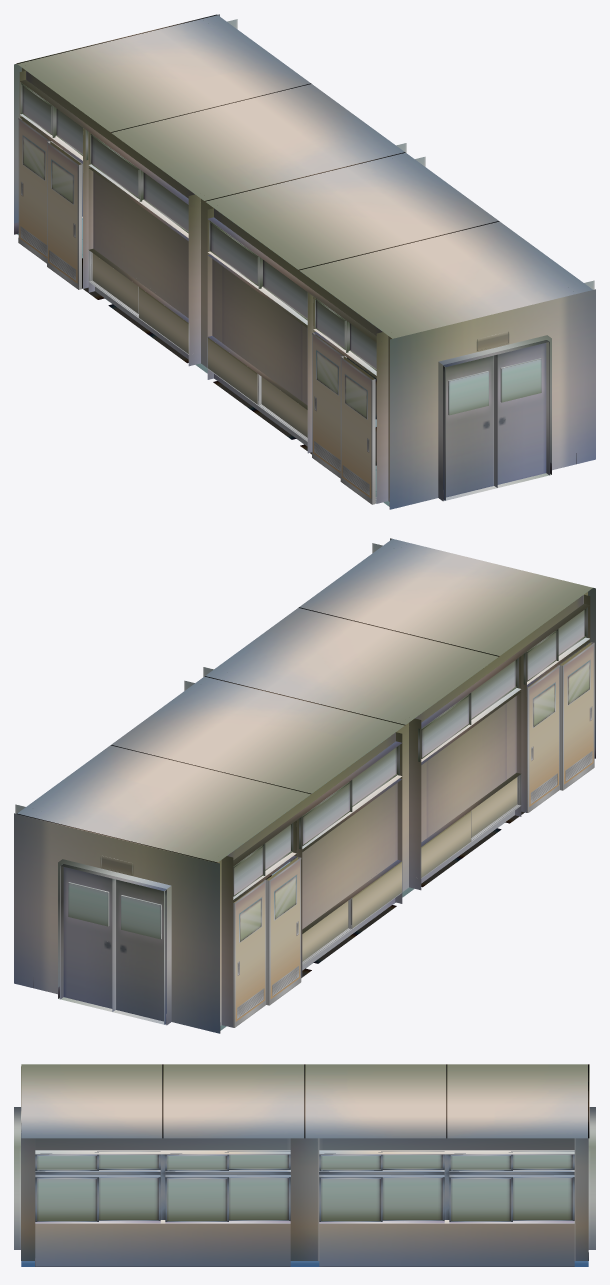
Rendered from JpsHallWayModel.FBX.
3 renders of one model, top to bottom at view 1: azimuth 30°, elevation 25°; view 2: azimuth 150°, elevation 25°; view 3: azimuth 270°, elevation 25°, orthographic. The views are drawn at different scales.
Visible parts, largest first — view 1: HW_ceiling board, HW_wallL, HW_wall_exitB00, HW_doorL_exitB00, HW_doorR_exitB00, HW_doorR_b, HW_doorR_f, HW_doorL_f, HW_doorL_b, HW_floor_spot_add00, HW_wall_exitA00; view 2: HW_ceiling board, HW_wallL, HW_wall_exitA00, HW_doorL_exitA00, HW_doorR_exitA00, HW_doorR_b, HW_doorR_f, HW_doorL_f, HW_doorL_b, HW_floor_spot_add00; view 3: HW_wallR, HW_ceiling board, HW_wall_exitA00, HW_wall_exitB00, HW_baseboardsR00, HW_floor.
Part boxes in pixels (x1,y1,x2,y2): HW_ceiling board: (16,14,592,338); HW_wallL: (19,68,391,503); HW_wall_exitB00: (389,289,595,509); HW_doorL_exitB00: (443,354,497,500); HW_doorR_exitB00: (497,340,549,484); HW_doorR_b: (340,356,375,504); HW_doorR_f: (47,141,81,289); HW_doorL_f: (18,117,53,263); HW_doorL_b: (312,332,346,478); HW_floor_spot_add00: (82,258,376,465); HW_wall_exitA00: (14,14,219,234); HW_ceiling board: (16,539,592,862); HW_wallL: (218,592,590,1027); HW_wall_exitA00: (14,813,220,1033); HW_doorL_exitA00: (112,878,166,1024); HW_doorR_exitA00: (60,864,112,1008); HW_doorR_b: (559,642,594,790); HW_doorR_f: (266,857,301,1005); HW_doorL_f: (233,879,266,1027); HW_doorL_b: (527,665,559,812); HW_floor_spot_add00: (265,811,524,977); HW_wallR: (21,1132,588,1266); HW_ceiling board: (21,1064,589,1138); HW_wall_exitA00: (588,1107,595,1249); HW_wall_exitB00: (14,1107,21,1249); HW_baseboardsR00: (35,1252,588,1266); HW_floor: (21,1261,588,1266).
Size of the model in its own units: 410 by 300 by 1230.
